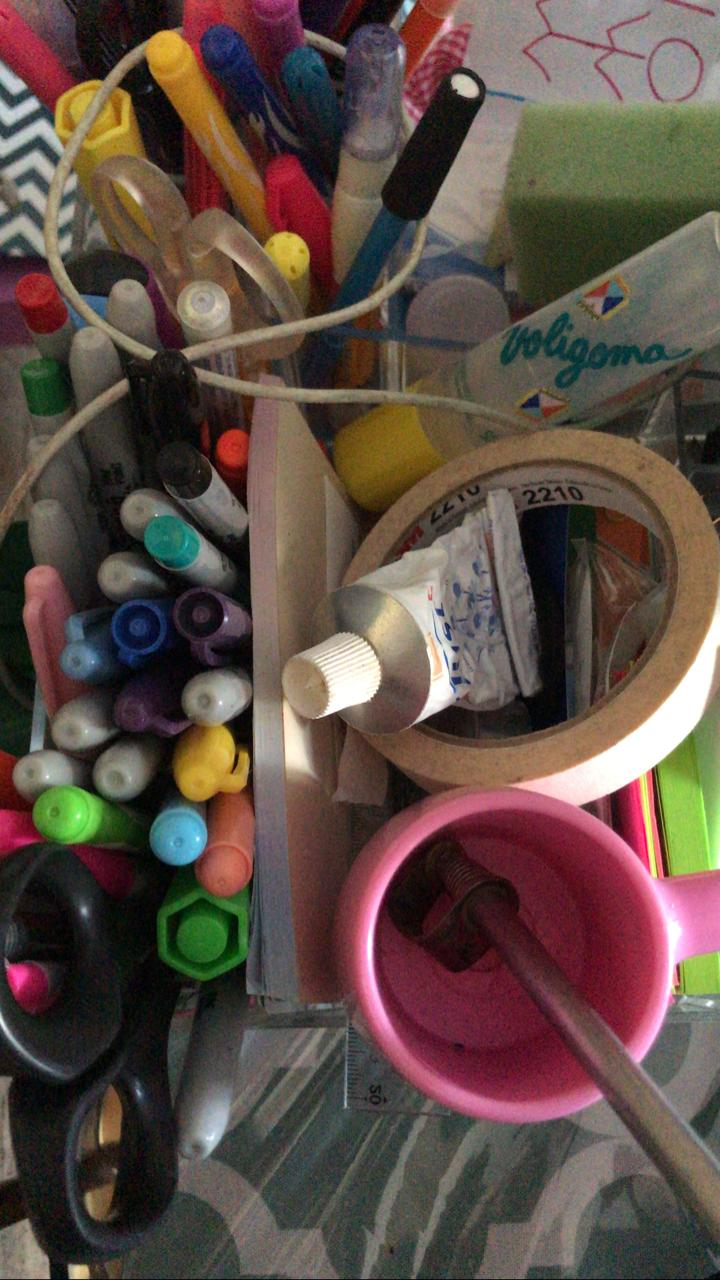mate: (327, 782, 720, 1280)
